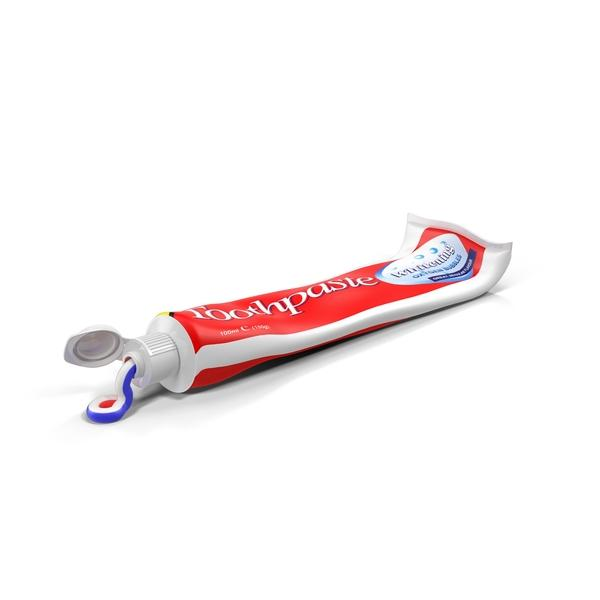toothpaste: (46, 190, 566, 428)
